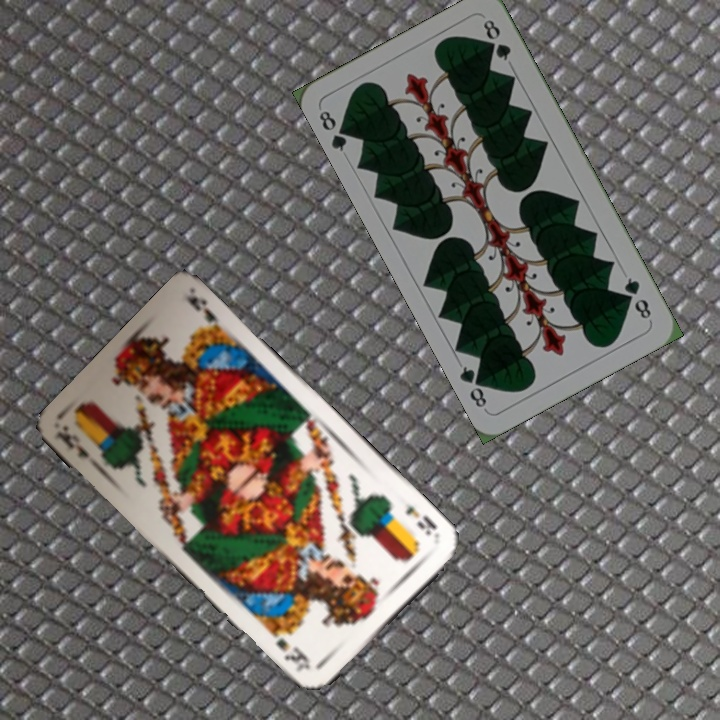EK: (51, 423, 93, 461), (401, 501, 440, 538)
G8: (314, 106, 355, 155), (620, 273, 654, 324)
